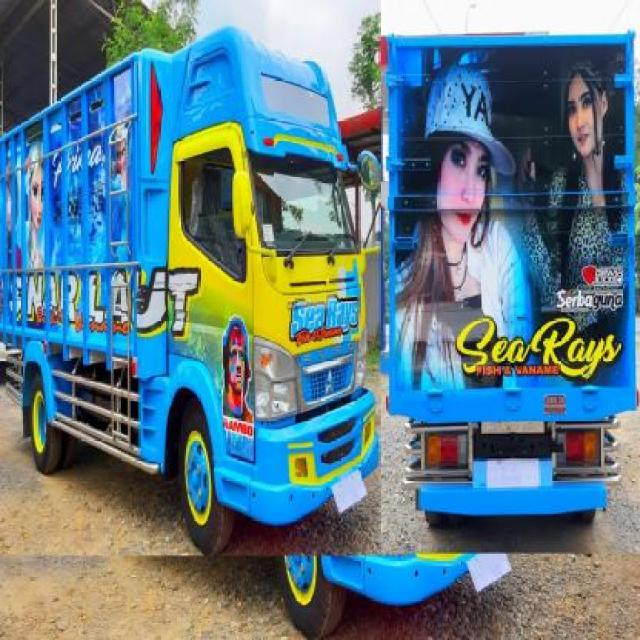truck: (1, 29, 378, 550), (388, 31, 640, 528)
